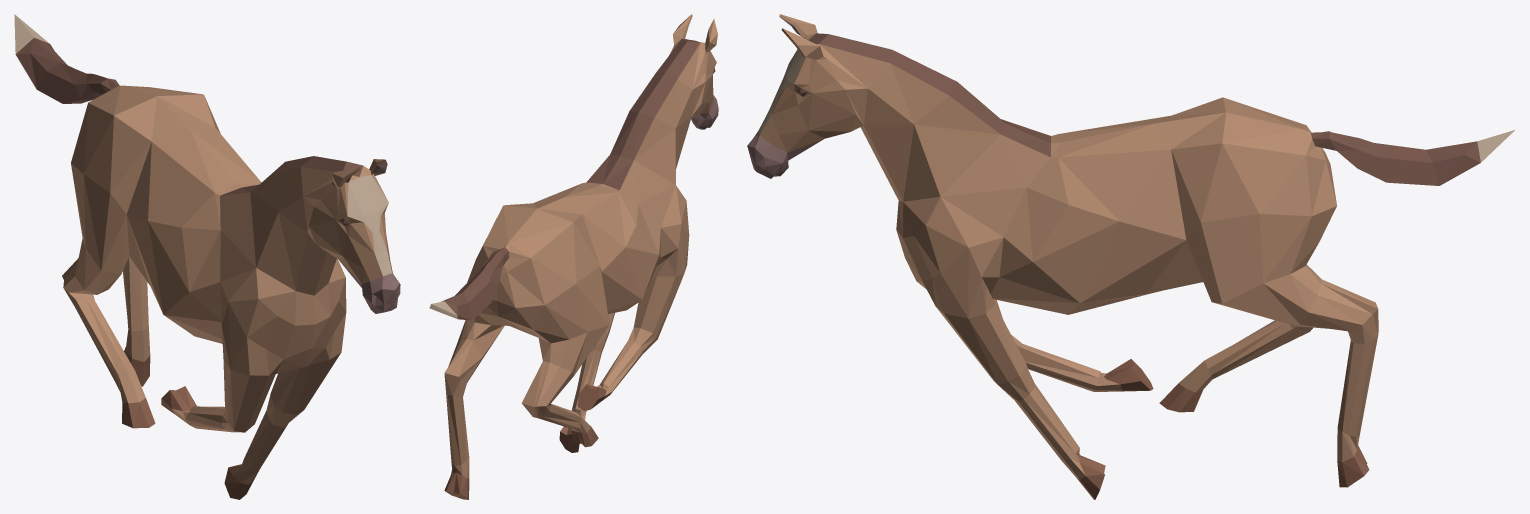
The model's file is Horse.glb.
The picture shows the model from 3 angles, left to right: view 1: azimuth 30°, elevation 25°; view 2: azimuth 150°, elevation 25°; view 3: azimuth 270°, elevation 25°; orthographic projection. The views are drawn at different scales.
Visible parts, largest first — view 1: mesh_0; view 2: mesh_0; view 3: mesh_0.
Part boxes in pixels (box(x1,y1,x2,y2)): mesh_0: box(14, 14, 400, 499); mesh_0: box(429, 14, 718, 499); mesh_0: box(747, 14, 1514, 499).
Size of the model in its own units: 66.18 by 191 by 283.
